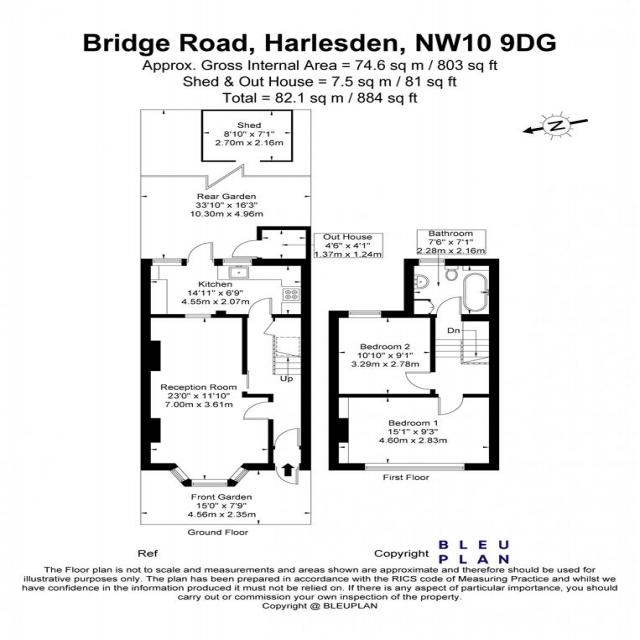DOOR: (185, 242, 216, 266), (274, 427, 301, 450), (437, 394, 465, 416), (435, 296, 463, 318), (404, 371, 436, 390), (243, 401, 274, 420), (274, 463, 300, 485), (248, 297, 273, 318)
ROOM: (140, 314, 274, 487), (328, 393, 500, 471), (140, 242, 311, 318), (328, 310, 436, 398)
WINDOW: (364, 463, 466, 471), (229, 466, 250, 484), (169, 466, 190, 483), (190, 479, 228, 487), (221, 258, 253, 267), (347, 310, 382, 318), (152, 258, 182, 266), (418, 258, 446, 266), (184, 314, 212, 318)
